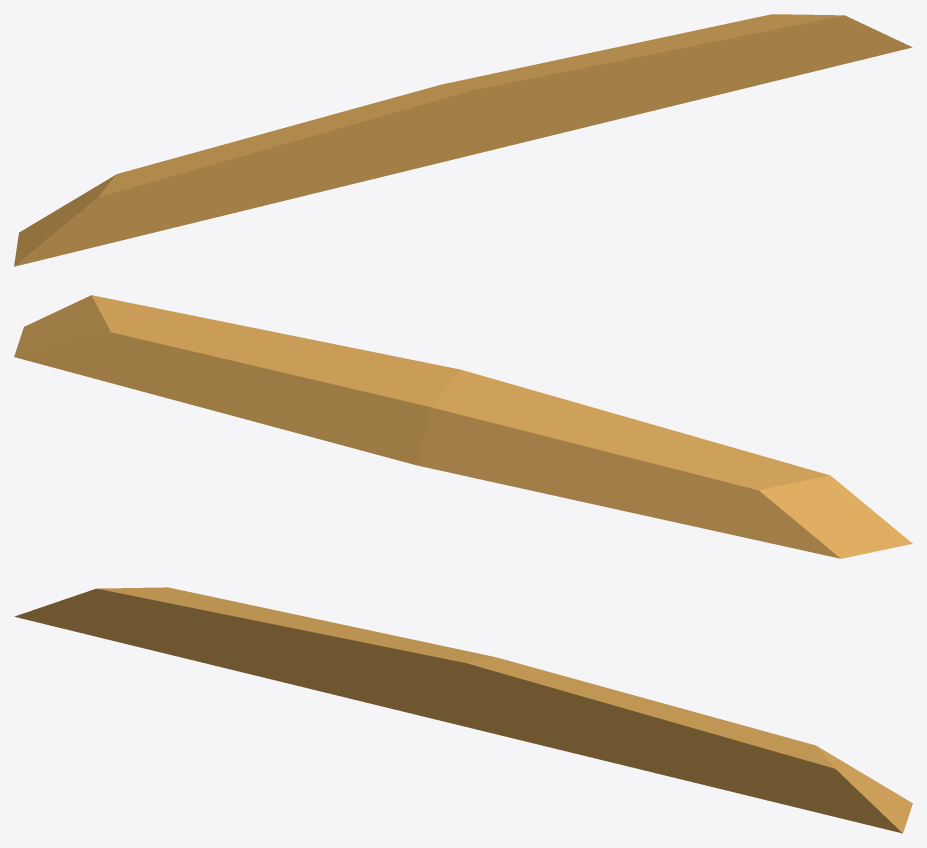
The model's file is potatoFries.fbx.
3 renders of one model, top to bottom at view 1: azimuth 30°, elevation 25°; view 2: azimuth 150°, elevation 25°; view 3: azimuth 330°, elevation 25°, orthographic.
Parts seen in each view (by area): view 1: potatoFries; view 2: potatoFries; view 3: potatoFries.
Part boxes in pixels (bbox=[...]): potatoFries: bbox=[14, 14, 912, 266]; potatoFries: bbox=[14, 295, 912, 558]; potatoFries: bbox=[14, 587, 912, 833].
Bounding box in the file's own units: 14.86 × 1.02 × 1.27.
1 material, 1 textured.
